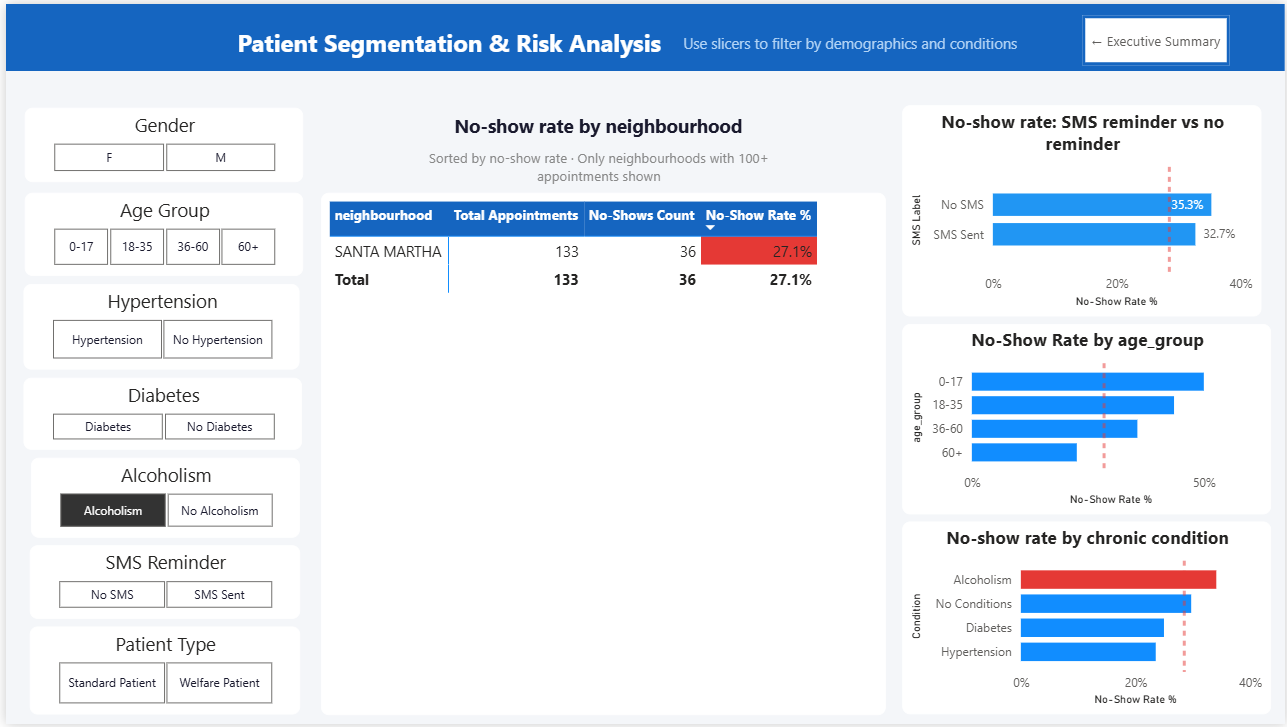

This screenshot's page, from the dashboard's own definition file:
{"tool":"powerbi","page":{"name":"Patient Segmentation","canvas":[1280,720],"ordinal":1},"visuals":[{"type":"shape","box":[0,0,1279.7,67],"z":0},{"type":"textbox","box":[226.2,17.5,492.5,55],"z":1000},{"type":"textbox","box":[528.8,23.8,487.5,100],"z":2000},{"type":"slicer","title":"Gender","fields":{"Values":["cleaned_appointments.gender"]},"box":[18.6,104.3,278.6,74.3],"z":3000},{"type":"slicer","title":"Age Group","fields":{"Values":["cleaned_appointments.age_group"]},"box":[18.6,188.6,278.6,82.9],"z":4000},{"type":"slicer","title":"Hypertension","fields":{"Values":["cleaned_appointments.Hypertension Label"]},"box":[18.1,279.9,276.3,85.7],"z":5000},{"type":"slicer","title":"Diabetes","fields":{"Values":["cleaned_appointments.Diabetes Label"]},"box":[18.1,374,278.7,72.4],"z":6000},{"type":"slicer","title":"Alcoholism","fields":{"Values":["cleaned_appointments.Alcoholism Label"]},"box":[25.3,453.6,269,79.6],"z":7000},{"type":"slicer","title":"SMS Reminder","fields":{"Values":["cleaned_appointments.SMS Label"]},"box":[24.1,541.7,270.2,73.6],"z":8000},{"type":"slicer","title":"Patient Type","fields":{"Values":["cleaned_appointments.Scholarship Label"]},"box":[24.1,622.5,270.2,88.1],"z":9000},{"type":"pivotTable","title":"No-show rate by neighbourhood","fields":{"Rows":["cleaned_appointments.neighbourhood"],"Values":["_measures.Total Appointments","_measures.No-Shows Count","_measures.No-Show Rate %"]},"box":[314.9,188.2,564.6,522.4],"z":10000},{"type":"textbox","box":[343.8,103.8,497.1,59.1],"z":11000},{"type":"textbox","box":[380,139.9,425.9,47.1],"z":12000},{"type":"clusteredBarChart","title":"No-show rate: SMS reminder vs no reminder","fields":{"Category":["cleaned_appointments.SMS Label"],"Y":["_measures.No-Show Rate %"]},"box":[896.4,101.3,359.5,211.1],"z":13000},{"type":"clusteredBarChart","title":"No-Show Rate by age_group","fields":{"Category":["cleaned_appointments.age_group"],"Y":["_measures.No-Show Rate %"]},"box":[896.4,319.7,369.2,190.6],"z":14000},{"type":"clusteredBarChart","title":"No-show rate by chronic condition","fields":{"Category":["Condition Summary.Condition"],"Y":["Sum(Condition Summary.No-Show Rate)"]},"box":[896.4,517.6,369.2,193],"z":15000},{"type":"actionButton","title":"Patient Segmentation →","box":[1076.2,11.2,147.5,50],"z":16000}]}

Visuals, with their boxes in screenshot pixels (x1, y1, x2, y2), scaled from the page's 1280x720 canvas onto the 1287x727 screenshot:
shape: pyautogui.locateOnScreen(0, 0, 1286, 68)
textbox: pyautogui.locateOnScreen(227, 18, 723, 73)
textbox: pyautogui.locateOnScreen(532, 24, 1022, 125)
"Gender" slicer: pyautogui.locateOnScreen(19, 105, 299, 180)
"Age Group" slicer: pyautogui.locateOnScreen(19, 190, 299, 274)
"Hypertension" slicer: pyautogui.locateOnScreen(18, 283, 296, 369)
"Diabetes" slicer: pyautogui.locateOnScreen(18, 378, 298, 451)
"Alcoholism" slicer: pyautogui.locateOnScreen(25, 458, 296, 538)
"SMS Reminder" slicer: pyautogui.locateOnScreen(24, 547, 296, 621)
"Patient Type" slicer: pyautogui.locateOnScreen(24, 629, 296, 718)
"No-show rate by neighbourhood" pivotTable: pyautogui.locateOnScreen(317, 190, 884, 718)
textbox: pyautogui.locateOnScreen(346, 105, 845, 164)
textbox: pyautogui.locateOnScreen(382, 141, 810, 189)
"No-show rate: SMS reminder vs no reminder" clusteredBarChart: pyautogui.locateOnScreen(901, 102, 1263, 315)
"No-Show Rate by age_group" clusteredBarChart: pyautogui.locateOnScreen(901, 323, 1273, 515)
"No-show rate by chronic condition" clusteredBarChart: pyautogui.locateOnScreen(901, 523, 1273, 718)
"Patient Segmentation →" actionButton: pyautogui.locateOnScreen(1082, 11, 1230, 62)
